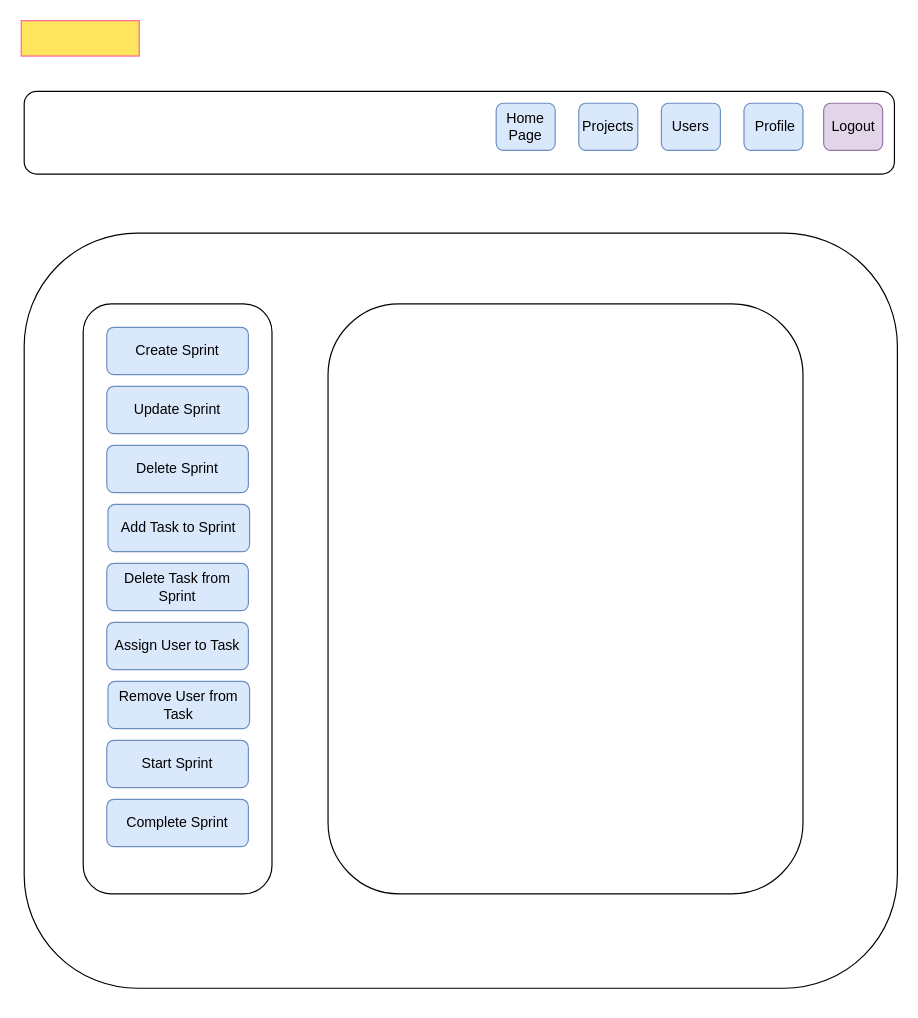
Some shapes in this 918 by 1018 pixel diagram are drawn without their labels. Here are the shapes that lost their labels. From the top down, the box of each, then its label:
(20, 19, 139, 56): Sprint page
(327, 303, 803, 894): Sprint list
